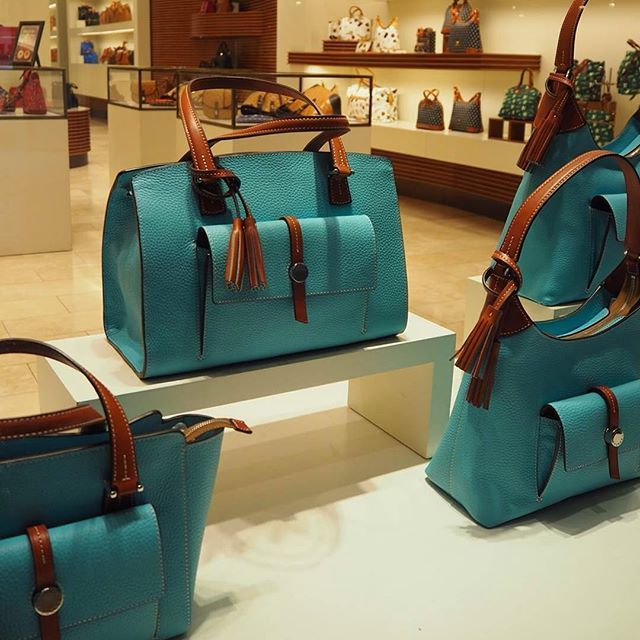cuero: (3, 3, 640, 640)
